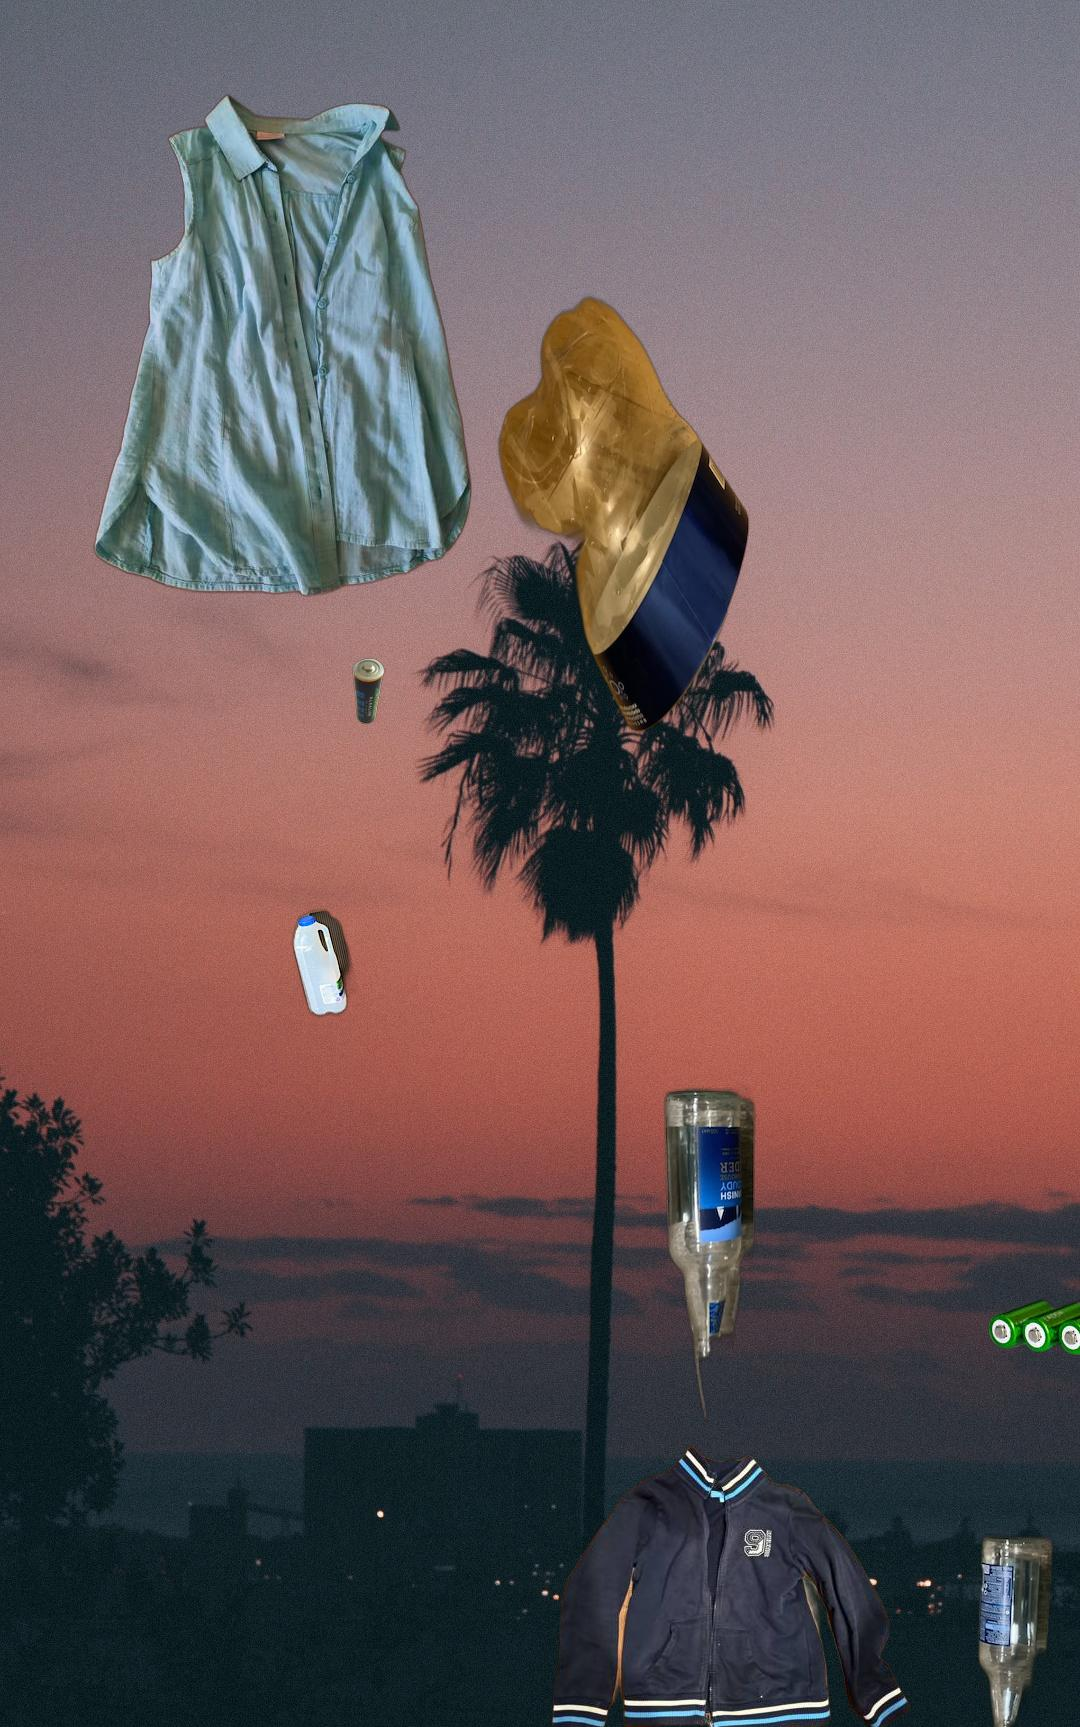battery: (987, 1288, 1080, 1360), (350, 656, 388, 727)
clothes: (91, 90, 474, 600), (549, 1445, 915, 1727)
glass: (661, 1082, 759, 1427), (974, 1528, 1058, 1727)
plastic-bottles: (495, 292, 752, 735), (289, 905, 361, 1022)
